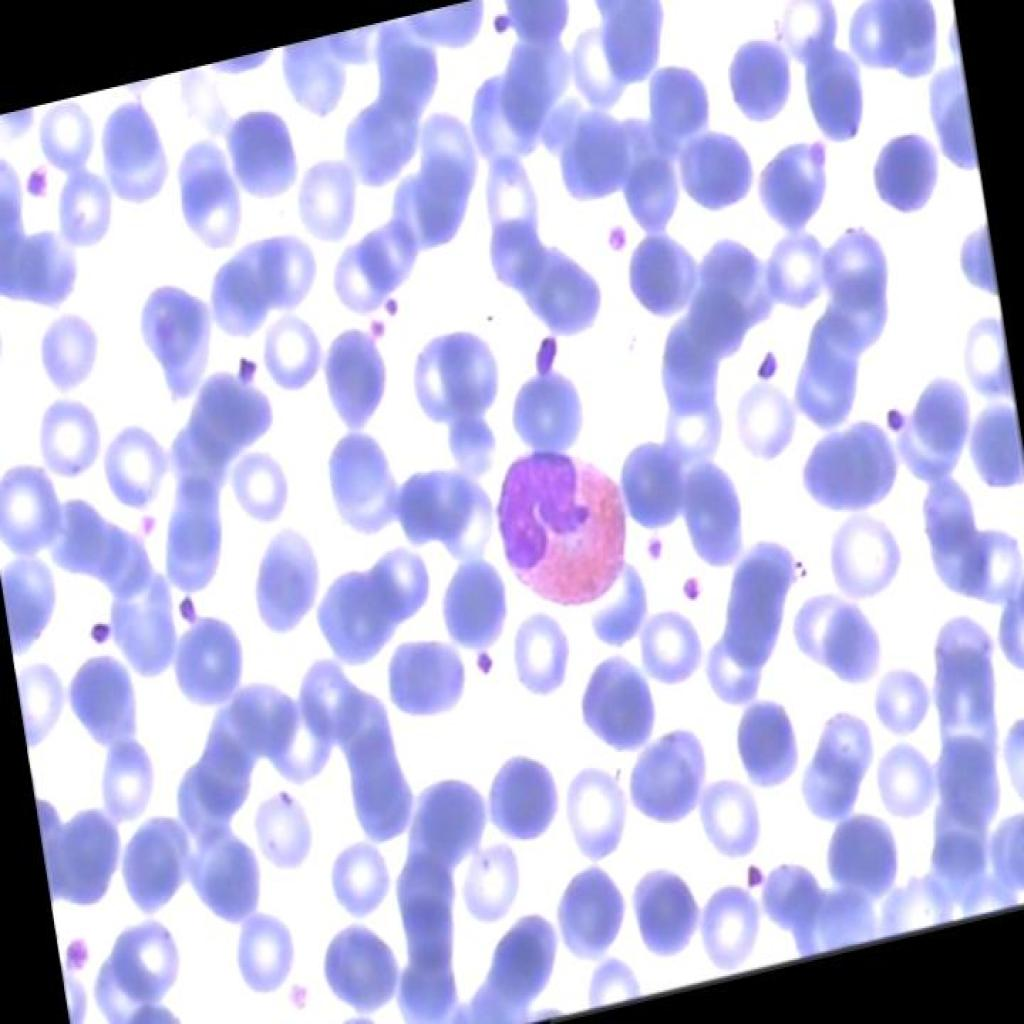Eosinofil: (485, 418, 643, 629)
Platelet: (168, 581, 208, 642), (57, 925, 99, 983), (460, 633, 504, 688), (727, 850, 768, 903), (744, 341, 784, 393), (134, 501, 168, 562), (528, 324, 566, 378), (78, 608, 115, 663), (18, 164, 57, 212), (224, 340, 258, 384), (674, 573, 708, 615), (875, 395, 906, 441), (361, 311, 393, 350), (376, 286, 406, 327), (602, 217, 630, 256), (636, 530, 662, 565), (484, 6, 506, 36)
